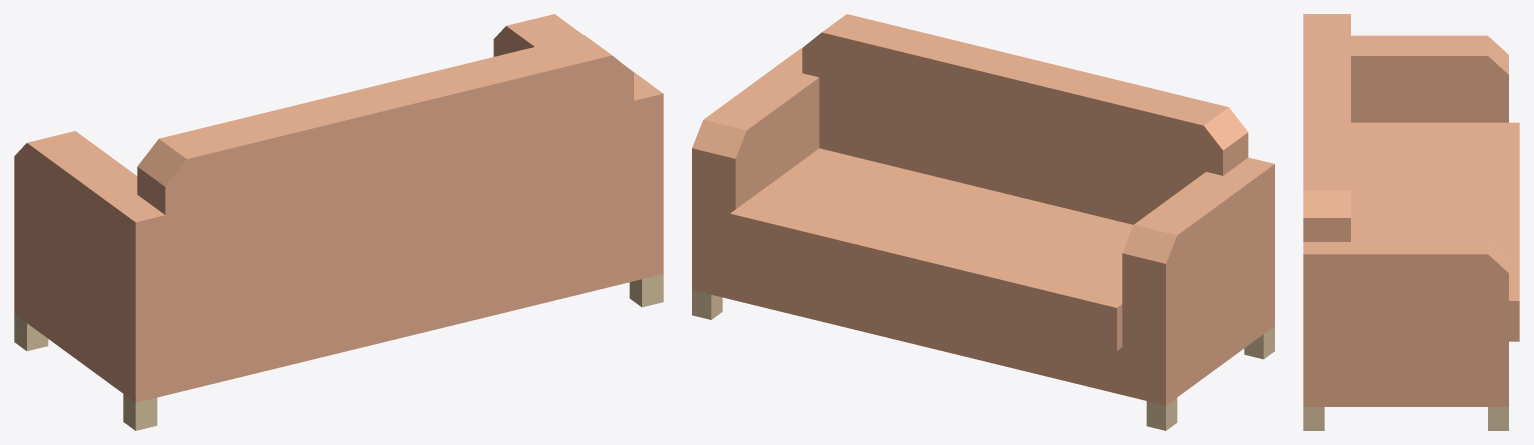
Rendered from loungeSofa.glb.
3 views of the same model, side by side, from view 1: azimuth 30°, elevation 25°; view 2: azimuth 150°, elevation 25°; view 3: azimuth 270°, elevation 25° (orthographic). The views are drawn at different scales.
Parts seen in each view (by area): view 1: loungeSofa; view 2: loungeSofa; view 3: loungeSofa.
Part boxes in pixels (bbox=[...]): loungeSofa: bbox=[14, 14, 663, 430]; loungeSofa: bbox=[692, 14, 1274, 430]; loungeSofa: bbox=[1303, 14, 1519, 430].
Bounding box in the file's own units: 9.8 × 4.6 × 4.1.
